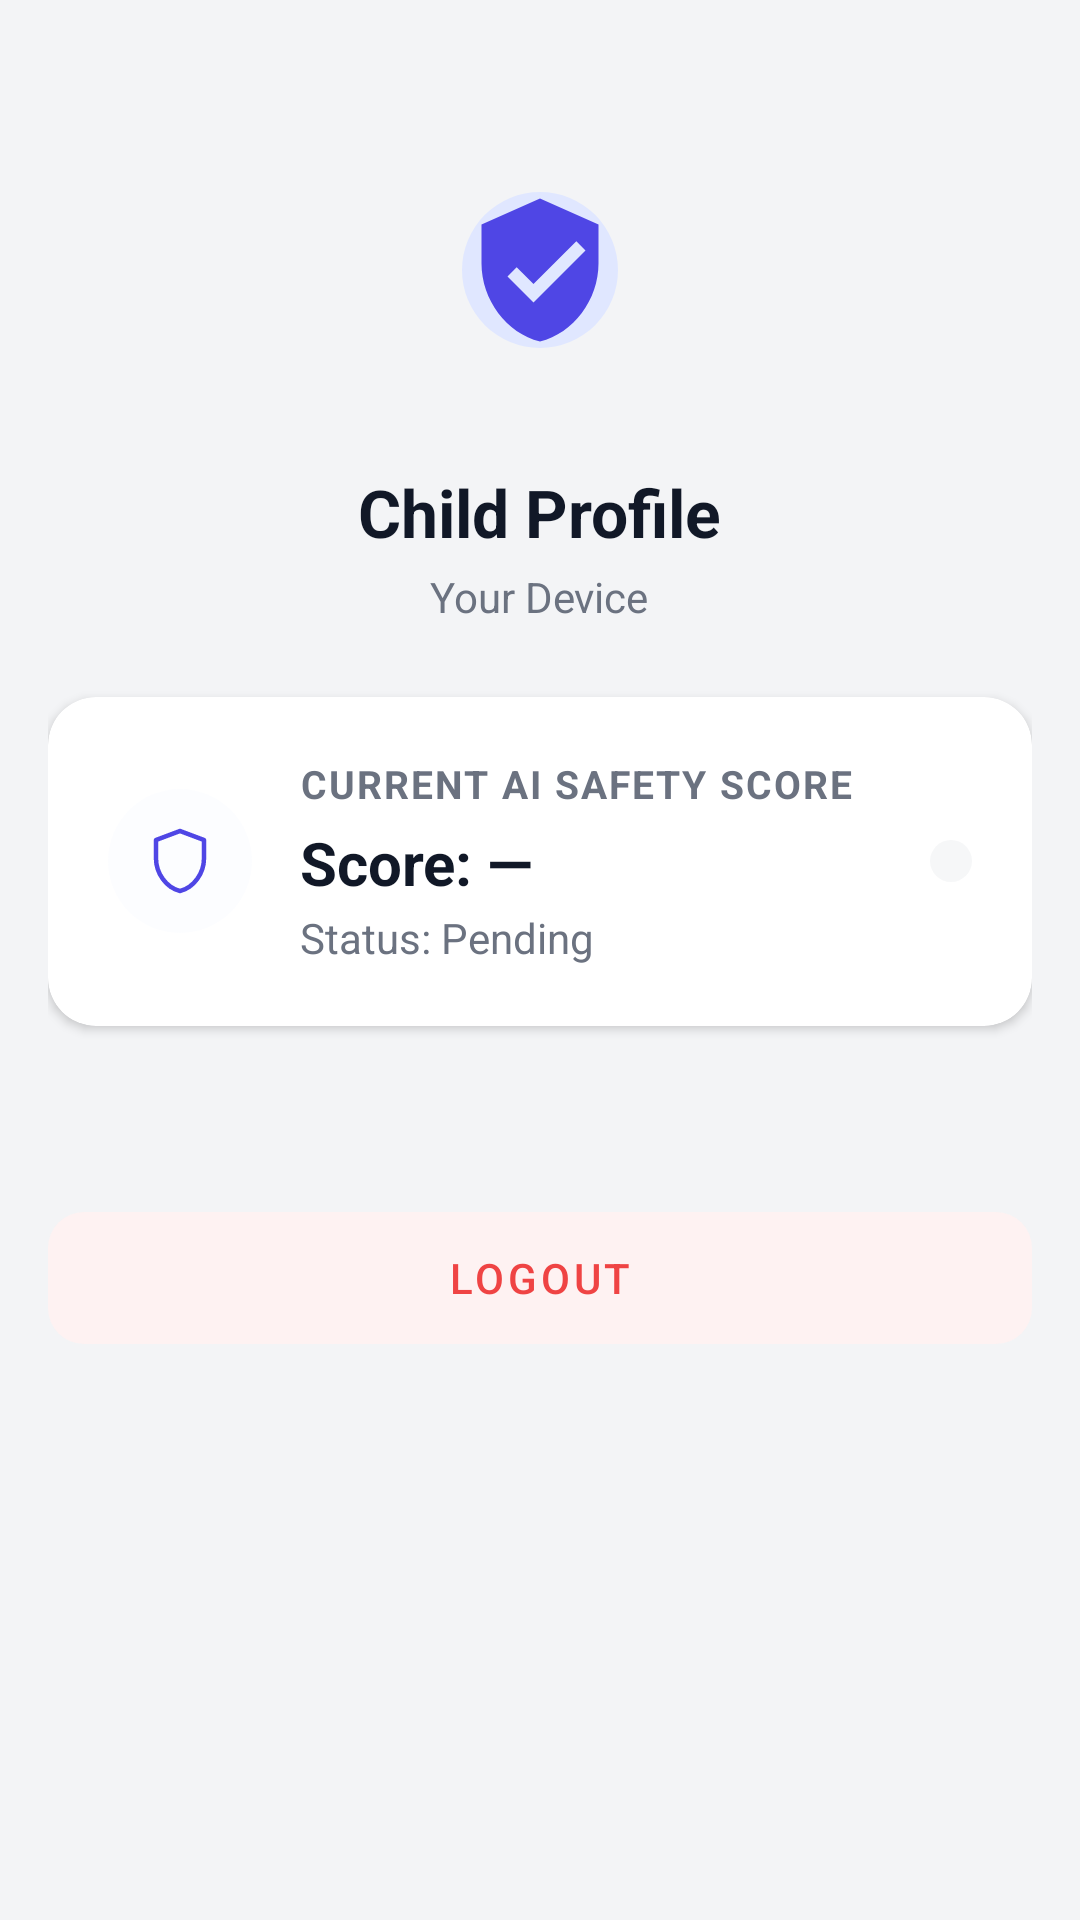

Icon click points for this 1080 x 1920 phone screenshot, format [x,y]:
shield: [180,861]
